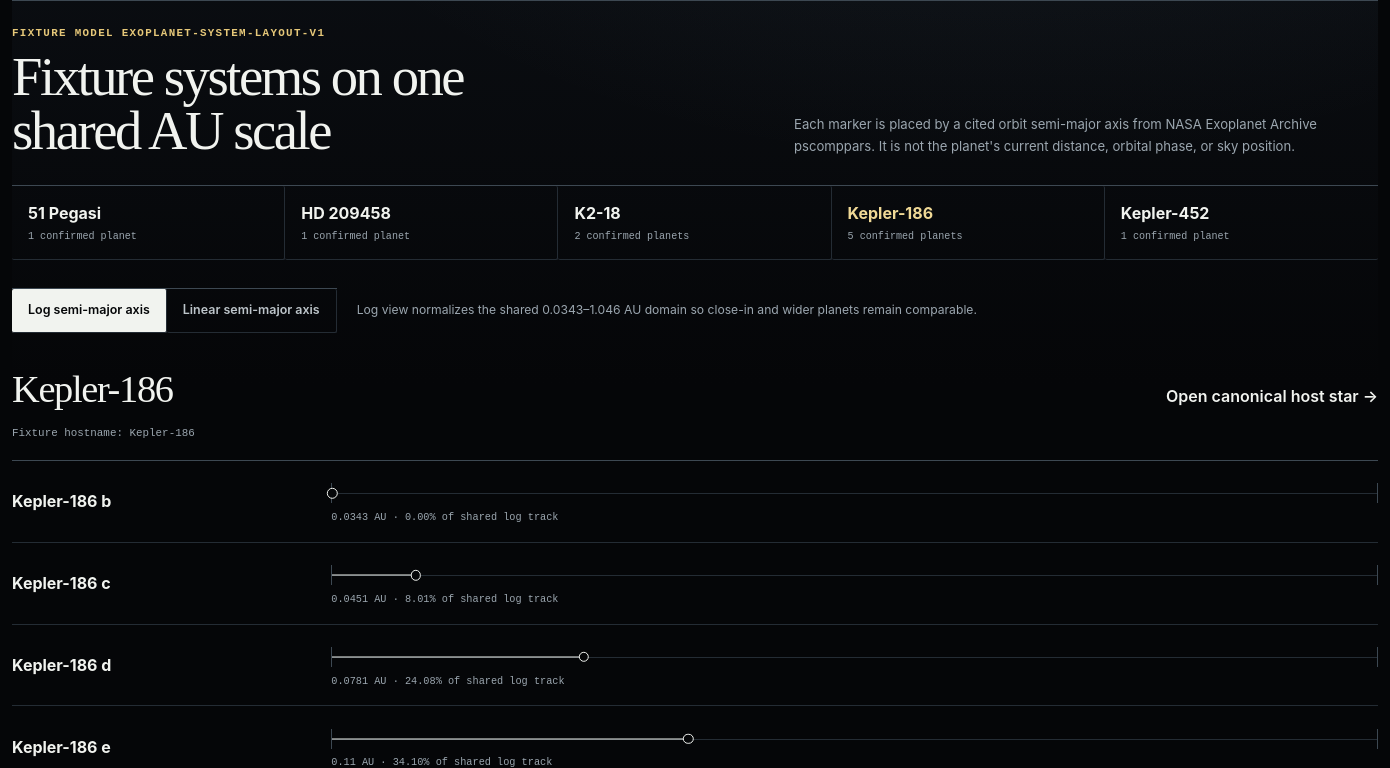
Scenario: Exoplanet System Explorer › localizes explorer chrome without rewriting archive or planet data
This screenshot has width=1390, height=768.
Expected: the heading "Fixture systems on one shared AU scale" is shown, [12,50,531,157]
Expected: the text "Fixture model exoplanet-system-layout-v1" is shown, [12,27,325,39]
Click the button with aria-label "HD 209458, 1 confirmed planet".
click(346, 213)  # box [285,186,558,260]
(page scrolled)
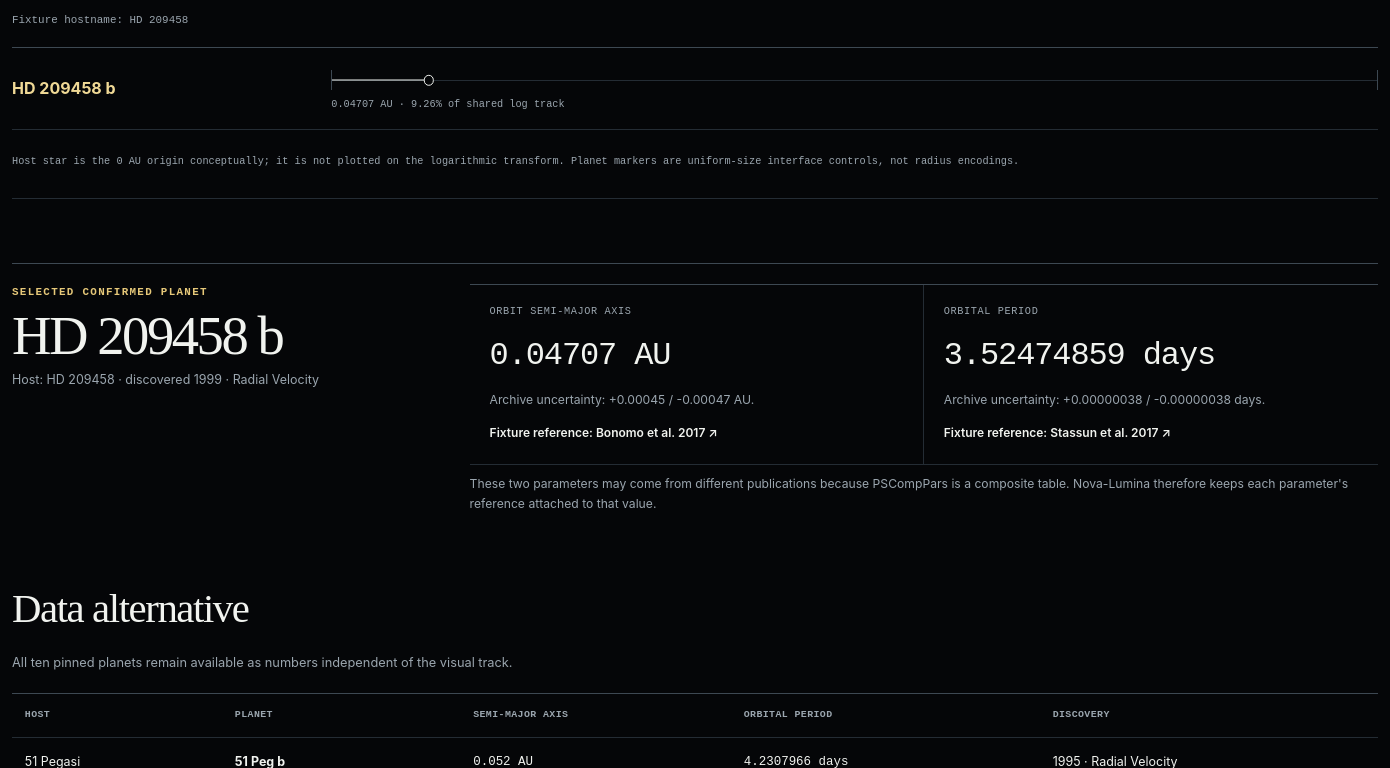
Expected: the text "0.04707 AU" is shown, [490,336,670,374]
Expected: the text "3.52474859 days" is shown, [944,336,1215,374]
